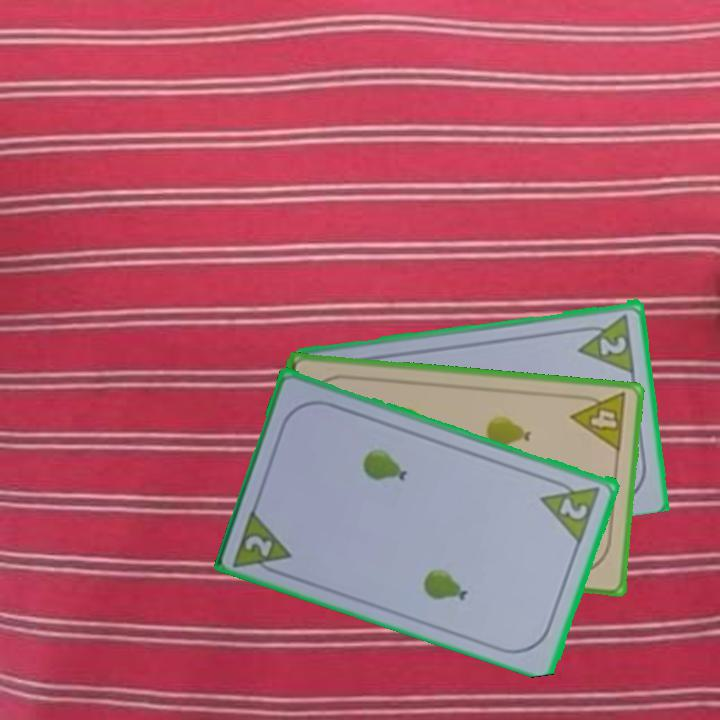2p: (230, 504, 295, 580), (537, 473, 604, 545), (597, 332, 630, 358)
4p: (568, 389, 630, 455)
